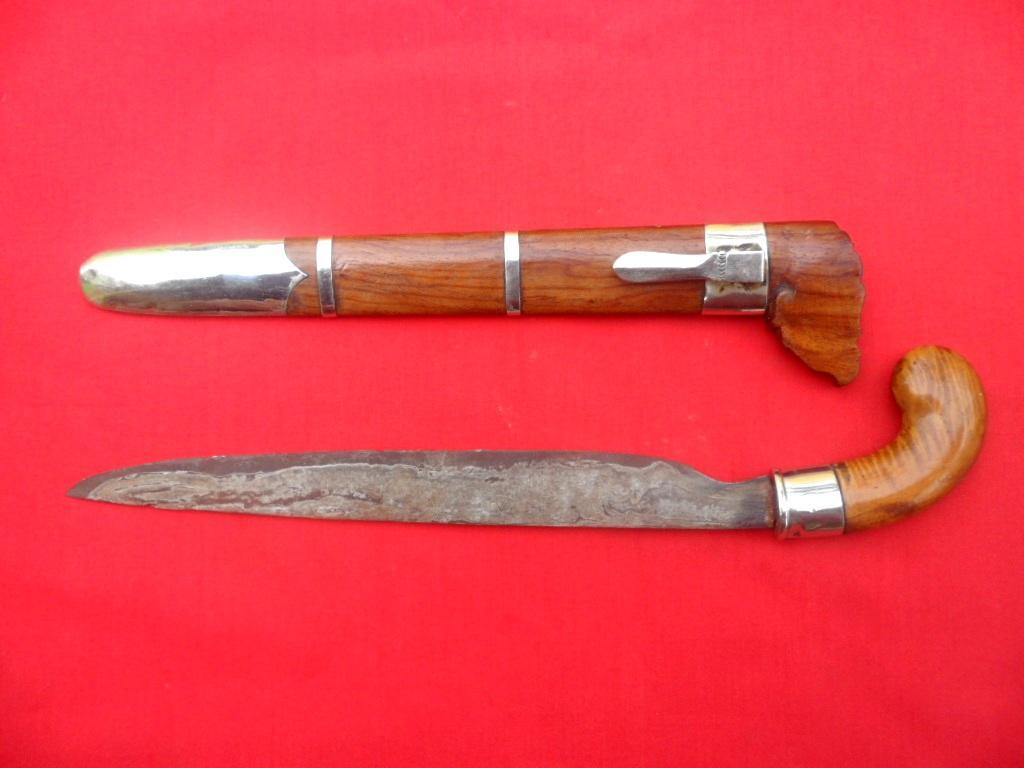facao: (70, 346, 985, 536)
